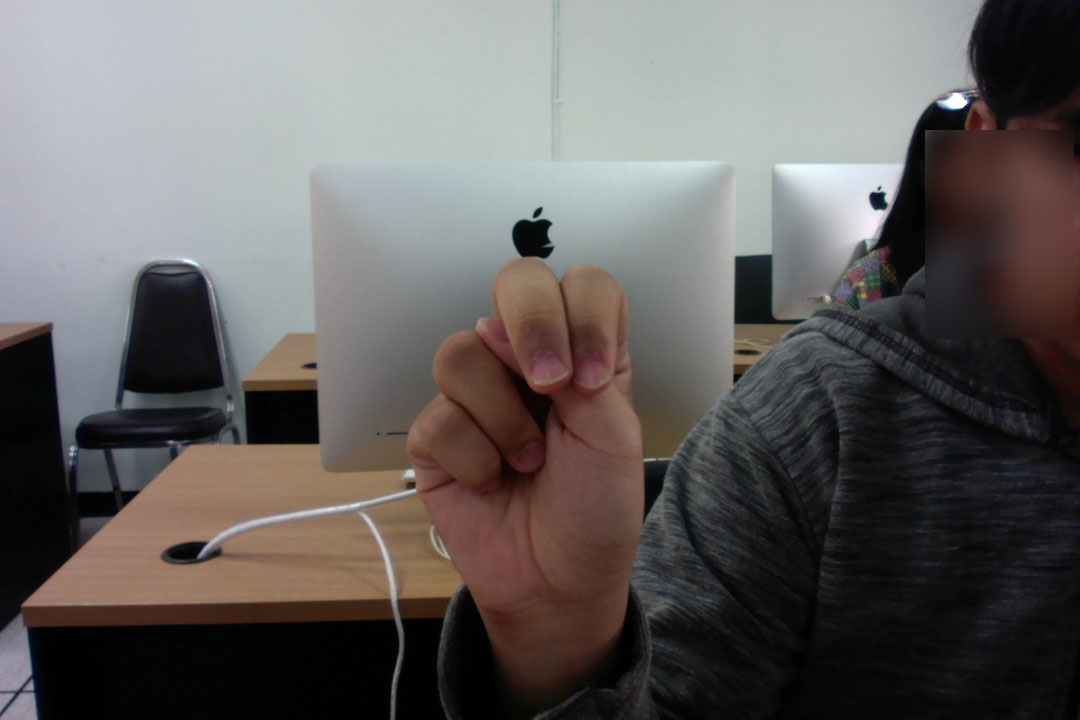nor: (399, 250, 653, 678)
